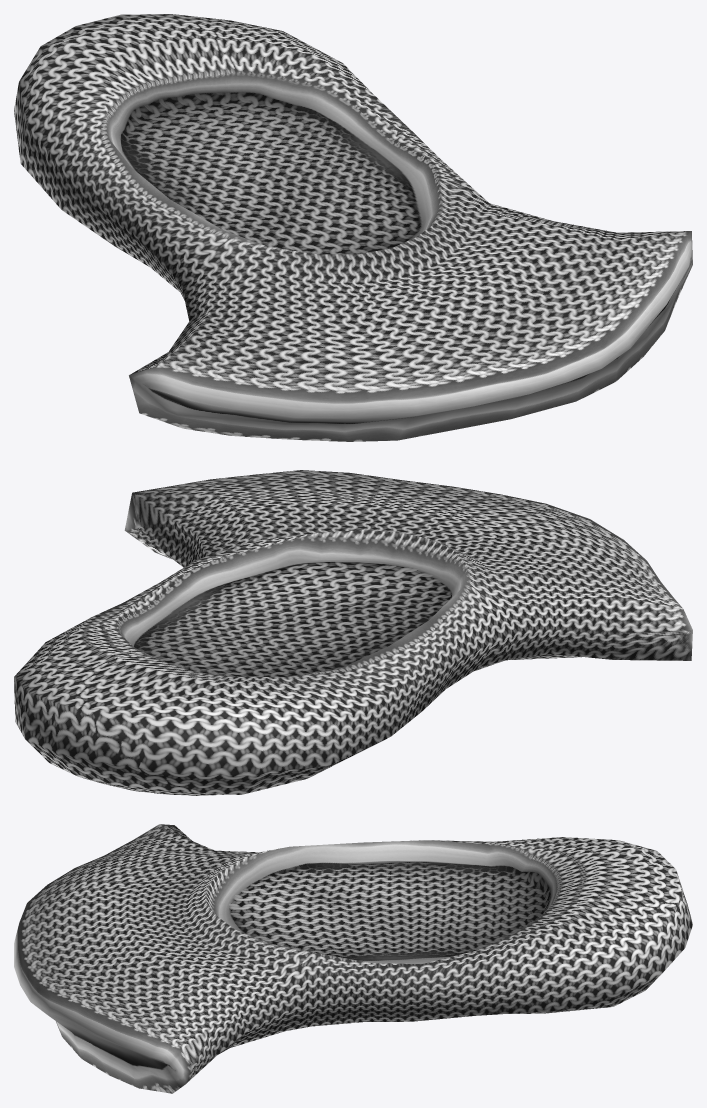
Rendered from 045_a_chain_cowl.fbx.
The picture shows the model from 3 angles, top to bottom: view 1: azimuth 30°, elevation 25°; view 2: azimuth 150°, elevation 25°; view 3: azimuth 270°, elevation 25°; orthographic projection. The views are drawn at different scales.
Parts seen in each view (by area): view 1: 045_a_chain_cowl; view 2: 045_a_chain_cowl; view 3: 045_a_chain_cowl.
Boxes of the visible parts, bbox=[...] form: 045_a_chain_cowl: bbox=[14, 14, 692, 441]; 045_a_chain_cowl: bbox=[14, 470, 692, 795]; 045_a_chain_cowl: bbox=[14, 824, 692, 1093].
Size of the model in its own units: 31.97 by 7.88 by 39.6.
